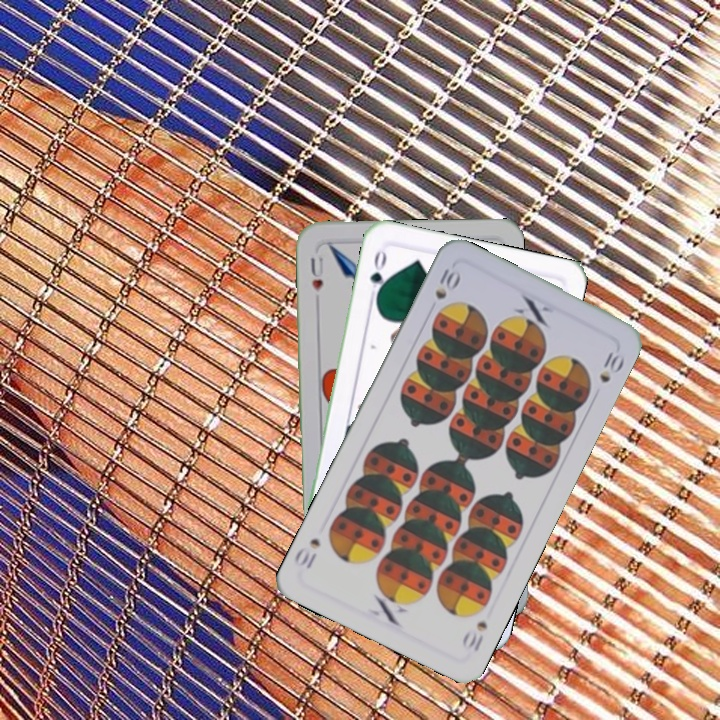GO: (365, 247, 390, 304)
HU: (307, 252, 326, 294)
S10: (458, 617, 490, 655), (430, 264, 461, 302)
